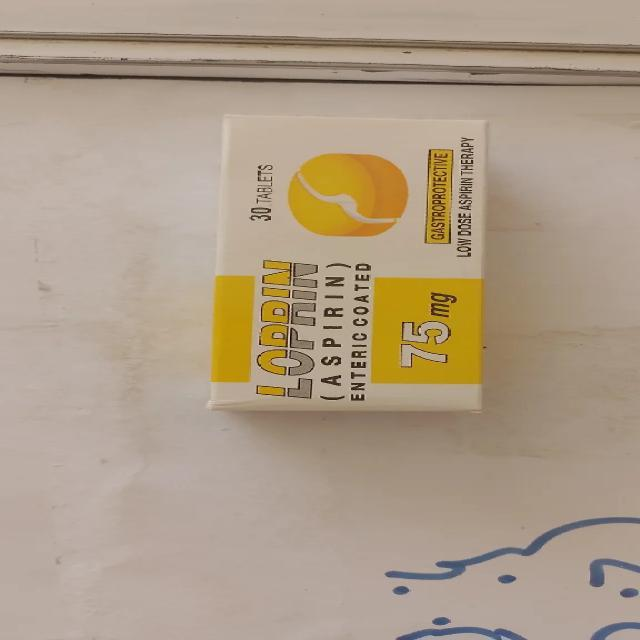drug-name: (253, 246, 319, 402)
